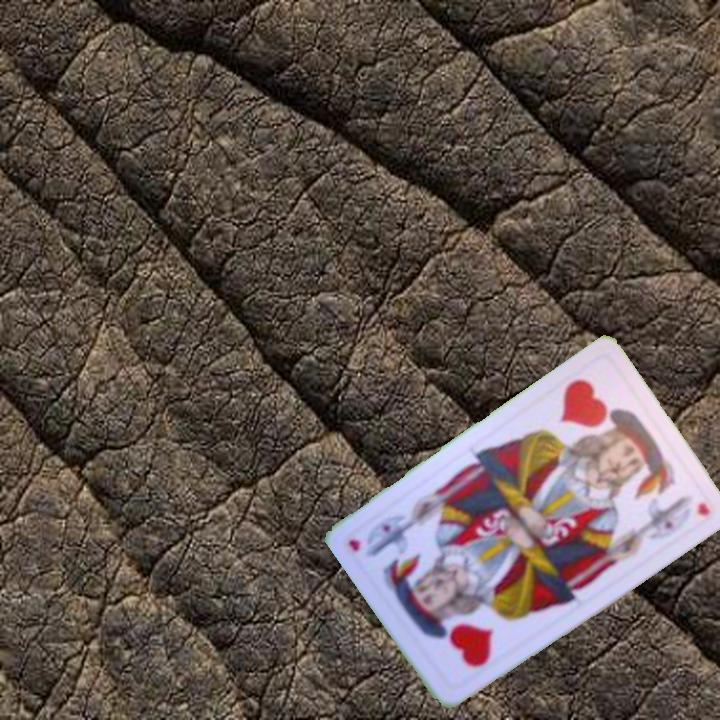h_j.png: (395, 565, 521, 694), (536, 353, 661, 482)
